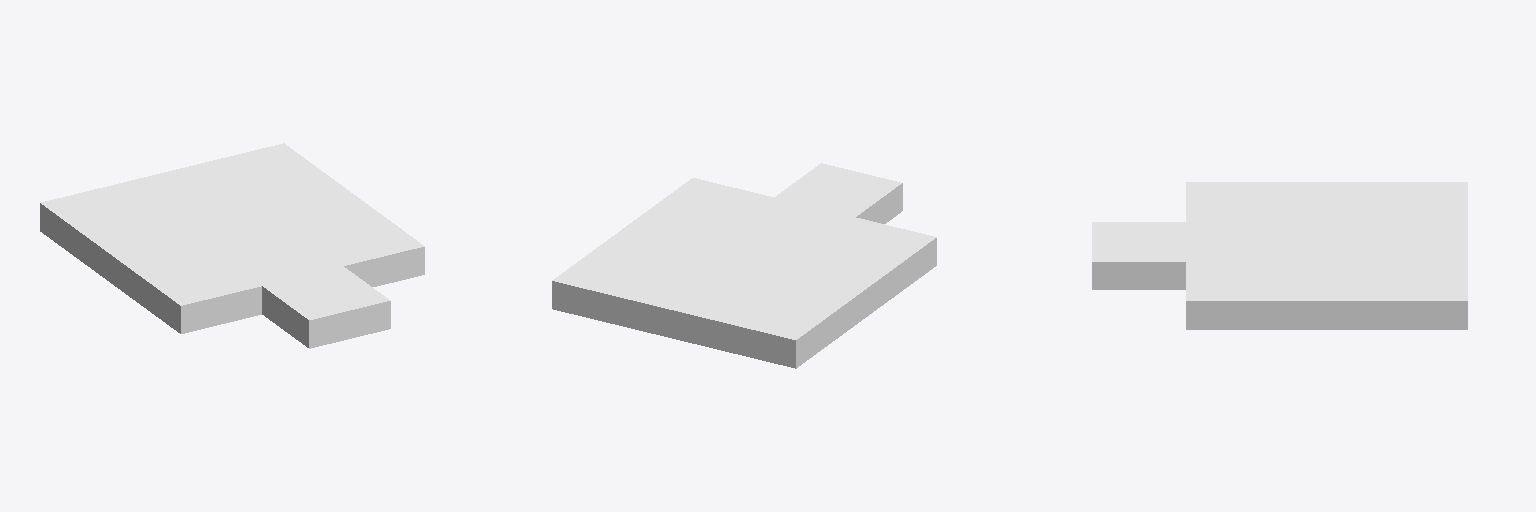
Rendered from cutting-board.obj.
3 renders of one model, left to right at view 1: azimuth 30°, elevation 25°; view 2: azimuth 150°, elevation 25°; view 3: azimuth 270°, elevation 25°, orthographic.
Visible parts, largest first — view 1: object 1; view 2: object 1; view 3: object 1.
Boxes of the visible parts, x1=… form: object 1: x1=40, y1=143, x2=424, y2=348; object 1: x1=552, y1=163, x2=936, y2=368; object 1: x1=1092, y1=182, x2=1467, y2=329.
Size of the model in its own units: 0.9 by 0.1 by 1.2.